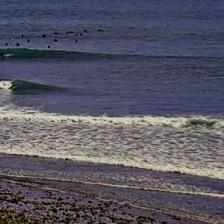surfer: (1, 55, 6, 59), (42, 34, 46, 38), (16, 42, 20, 46), (98, 29, 103, 32), (83, 29, 88, 32), (53, 39, 57, 42), (69, 31, 74, 33), (75, 40, 78, 43), (49, 35, 52, 38), (54, 32, 58, 34), (28, 39, 30, 43), (80, 33, 82, 36), (76, 33, 78, 36), (66, 31, 68, 34), (48, 45, 50, 48), (22, 34, 24, 37), (6, 43, 8, 46), (9, 37, 11, 40)
